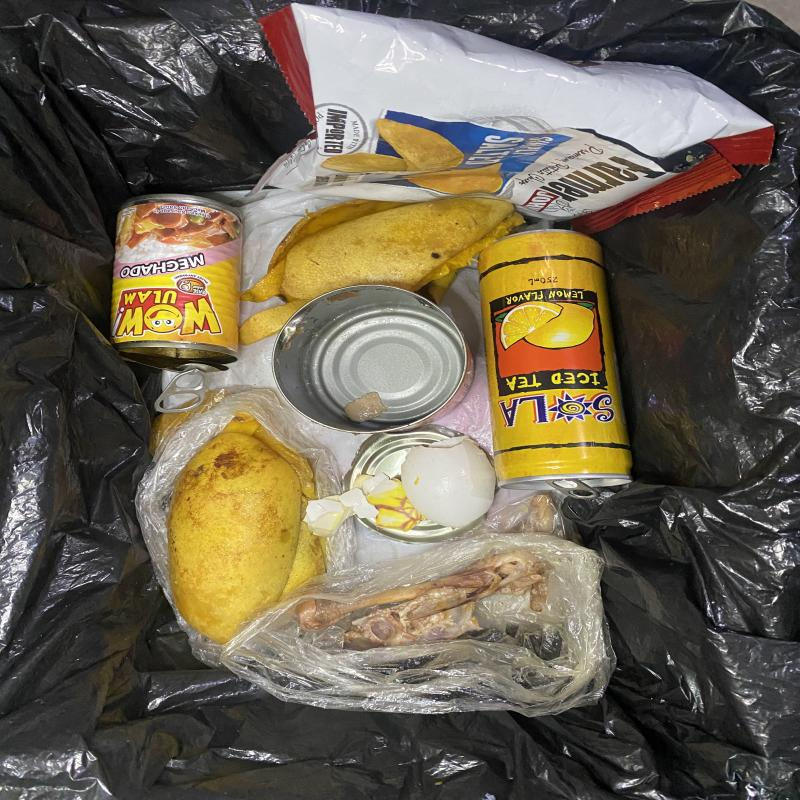aluminum: (478, 230, 633, 501), (272, 285, 474, 434), (108, 194, 246, 372), (339, 424, 497, 545), (155, 374, 205, 414)
egg shell: (303, 436, 496, 538)
food wrapper: (257, 4, 776, 235)
fruit peels: (240, 197, 526, 346), (169, 415, 323, 651)
left-over food: (299, 548, 551, 651)
plastic bag: (185, 492, 616, 718), (135, 386, 363, 669)
